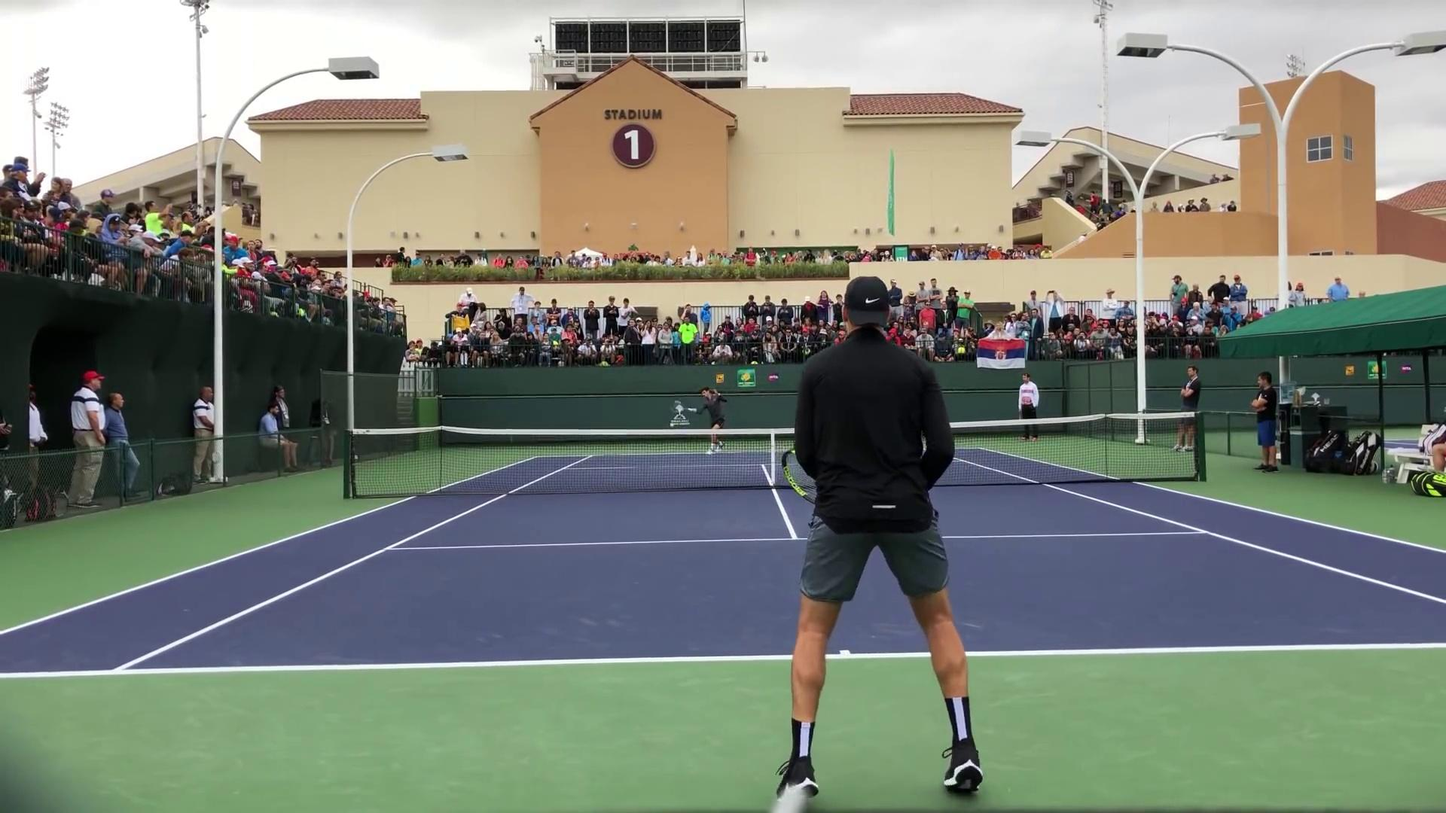ball: (676, 405, 681, 410)
